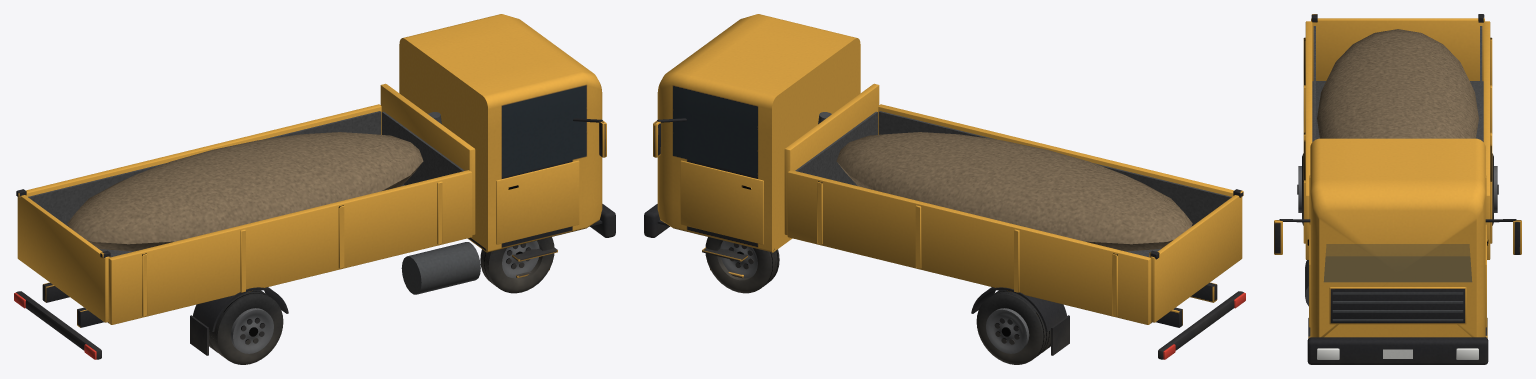
The model's file is caminhao-basculante.glb.
The picture shows the model from 3 angles, left to right: view 1: azimuth 30°, elevation 25°; view 2: azimuth 150°, elevation 25°; view 3: azimuth 270°, elevation 25°; orthographic projection.
Parts seen in each view (by area): view 1: body, trunk, door_fr, wheel_rr_tire, wheel_fr_tire, wheel_rr_rim, bumper_rear, wheel_fr_rim, bumper_front; view 2: body, trunk, door_fl, wheel_rl_tire, wheel_fl_tire, wheel_rl_rim, bumper_rear, wheel_fl_rim, bumper_front; view 3: body, glass_windshield, trunk, bumper_front, headlight_left, headlight_right, door_fl, door_fr.
Boxes of the visible parts, x1=… form: body: x1=26, y1=14, x2=606, y2=355; trunk: x1=16, y1=189, x2=110, y2=322; door_fr: x1=496, y1=160, x2=579, y2=244; wheel_rr_tire: x1=209, y1=290, x2=283, y2=364; wheel_fr_tire: x1=480, y1=237, x2=554, y2=293; wheel_rr_rim: x1=230, y1=308, x2=273, y2=353; bumper_rear: x1=16, y1=291, x2=101, y2=359; wheel_fr_rim: x1=502, y1=240, x2=542, y2=280; bumper_front: x1=590, y1=204, x2=615, y2=237; body: x1=653, y1=14, x2=1233, y2=355; trunk: x1=1149, y1=189, x2=1243, y2=322; door_fl: x1=680, y1=160, x2=763, y2=244; wheel_rl_tire: x1=976, y1=290, x2=1050, y2=364; wheel_fl_tire: x1=705, y1=237, x2=779, y2=293; wheel_rl_rim: x1=986, y1=308, x2=1029, y2=353; bumper_rear: x1=1158, y1=291, x2=1243, y2=359; wheel_fl_rim: x1=717, y1=240, x2=757, y2=280; bumper_front: x1=644, y1=204, x2=669, y2=237; body: x1=1274, y1=21, x2=1521, y2=358; glass_windshield: x1=1324, y1=244, x2=1471, y2=282; trunk: x1=1311, y1=14, x2=1484, y2=80; bumper_front: x1=1307, y1=337, x2=1488, y2=364; headlight_left: x1=1456, y1=348, x2=1478, y2=359; headlight_right: x1=1317, y1=348, x2=1339, y2=359; door_fl: x1=1485, y1=224, x2=1488, y2=327; door_fr: x1=1307, y1=224, x2=1310, y2=327.
Size of what is drawn, in the model's own units: 7.89 by 2.95 by 3.29.
6 materials, 5 textured.
